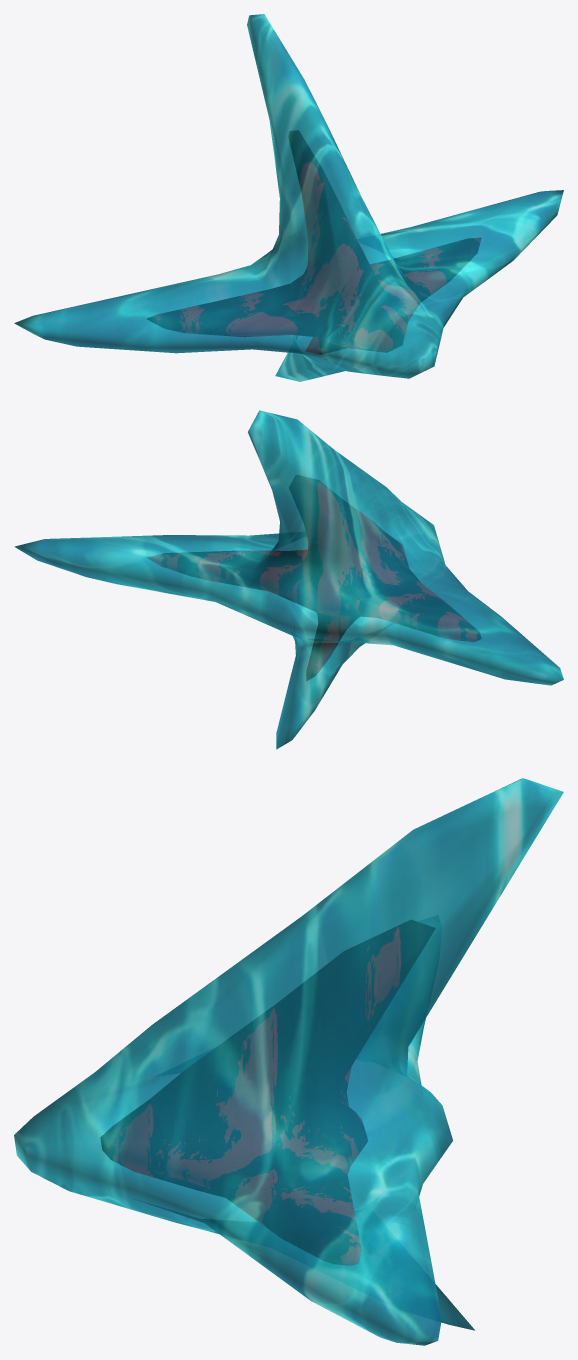
File: fish_head.obj
3 views of the same model, one above another, from view 1: azimuth 30°, elevation 25°; view 2: azimuth 150°, elevation 25°; view 3: azimuth 270°, elevation 25° (orthographic). The views are drawn at different scales.
Parts seen in each view (by area): view 1: Group18559, Group18560; view 2: Group18559, Group18560; view 3: Group18559, Group18560.
Boxes of the visible parts, x1,y1,x2,y2 form: Group18559: (14,14,563,381); Group18560: (147,130,481,354); Group18559: (14,410,563,749); Group18560: (147,475,481,680); Group18559: (14,778,563,1345); Group18560: (100,920,435,1265).
Size of the model in its own units: 5.77 by 3.51 by 3.16.
